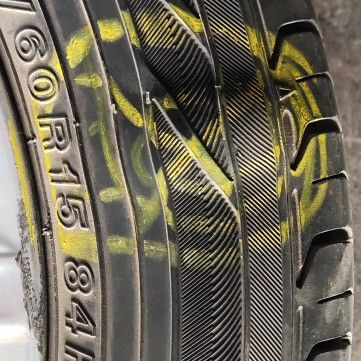CBU: (135, 71, 290, 224)
